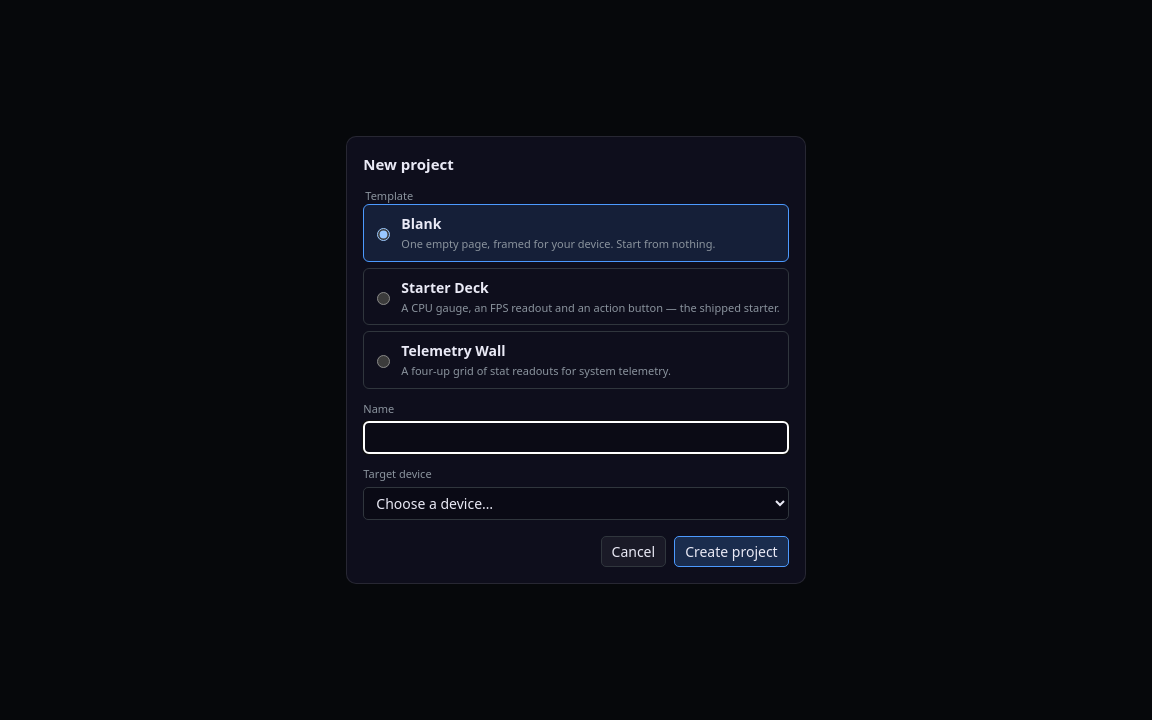
Test: NewProjectWizard — invalid input blocked with inline errors (CD-406) › blocks a name that collides with a sibling
Type "battlestation" into the field labelled "Name" at (576, 438), box [363, 421, 789, 454]
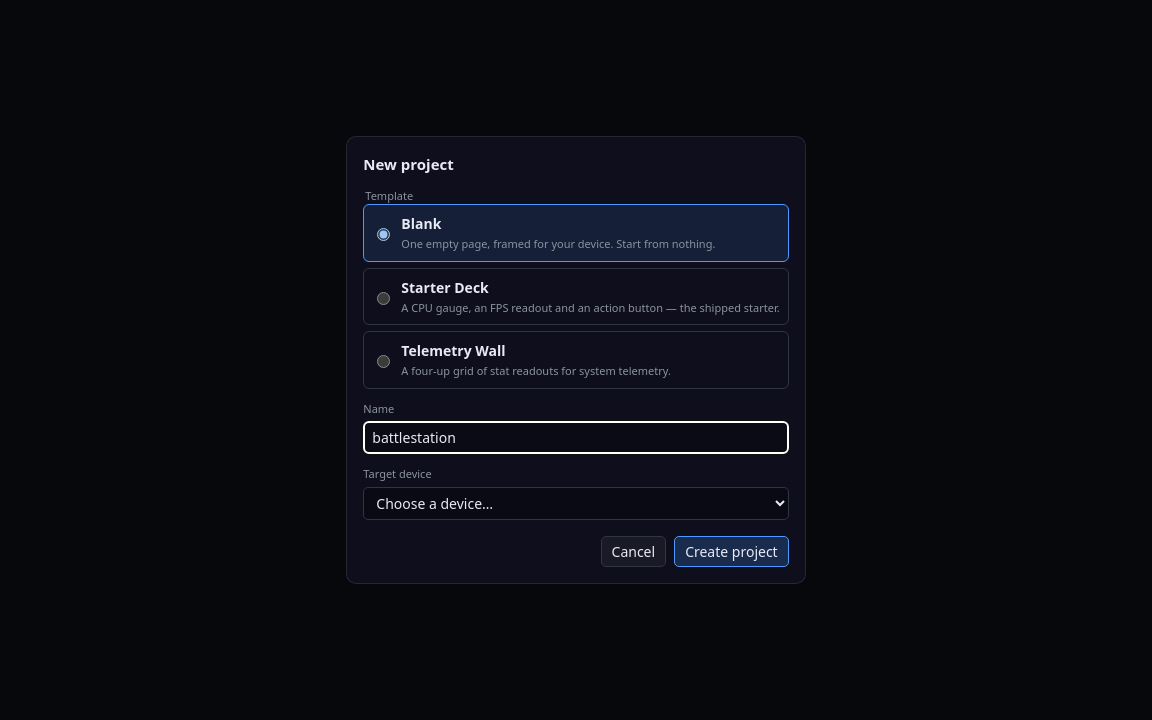
Select "Tablet — 1180 × 820" in the dropdown labelled "Target device" at (576, 503), box [363, 487, 789, 520]
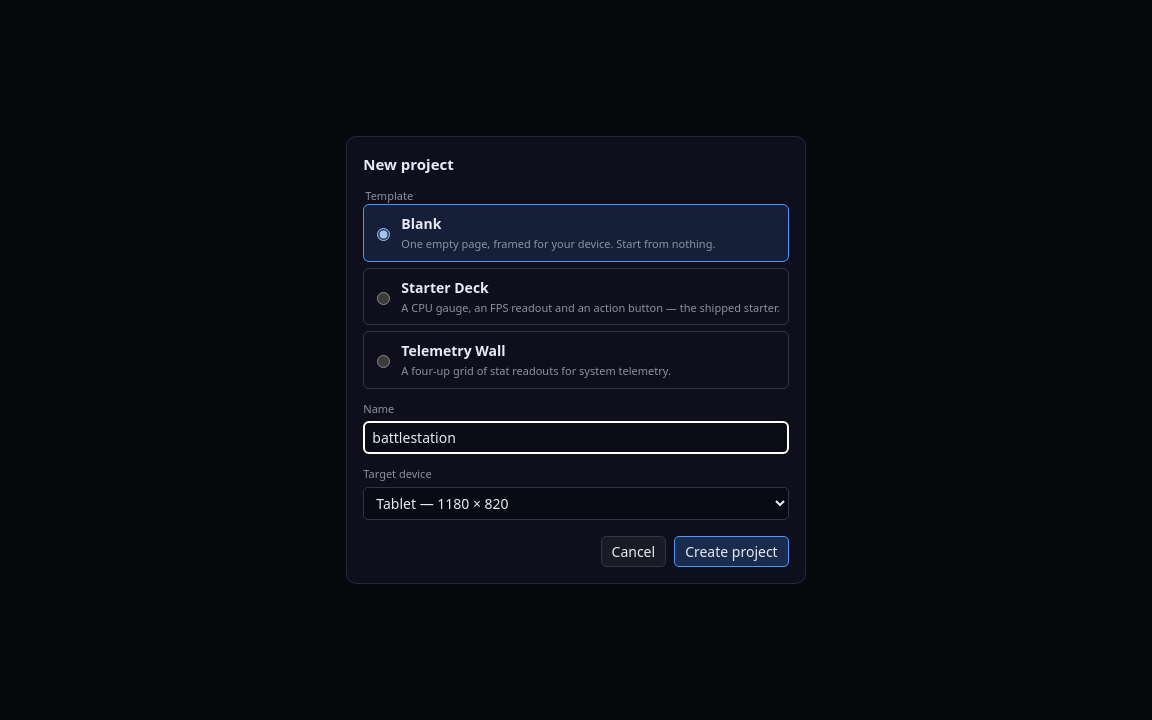
Click the button with test id "wizard-create" at (731, 551), box [674, 536, 789, 567]
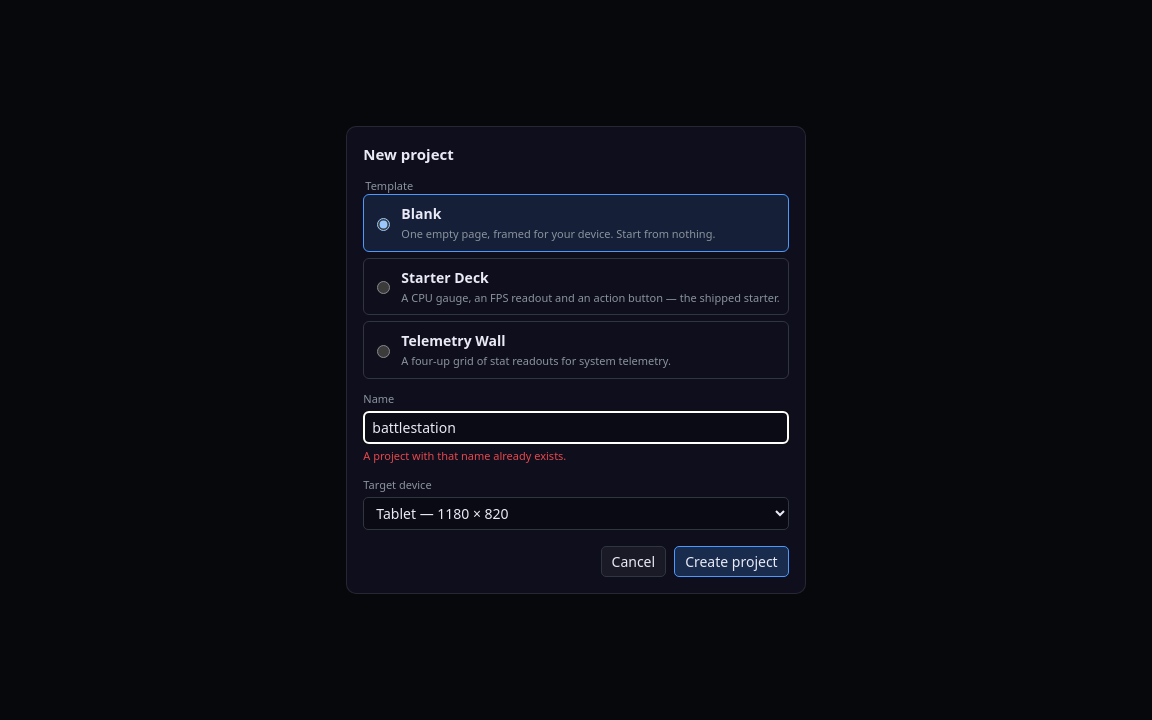
Result: the message with test id "error-name" shows "exists" at [363, 448, 566, 463]
